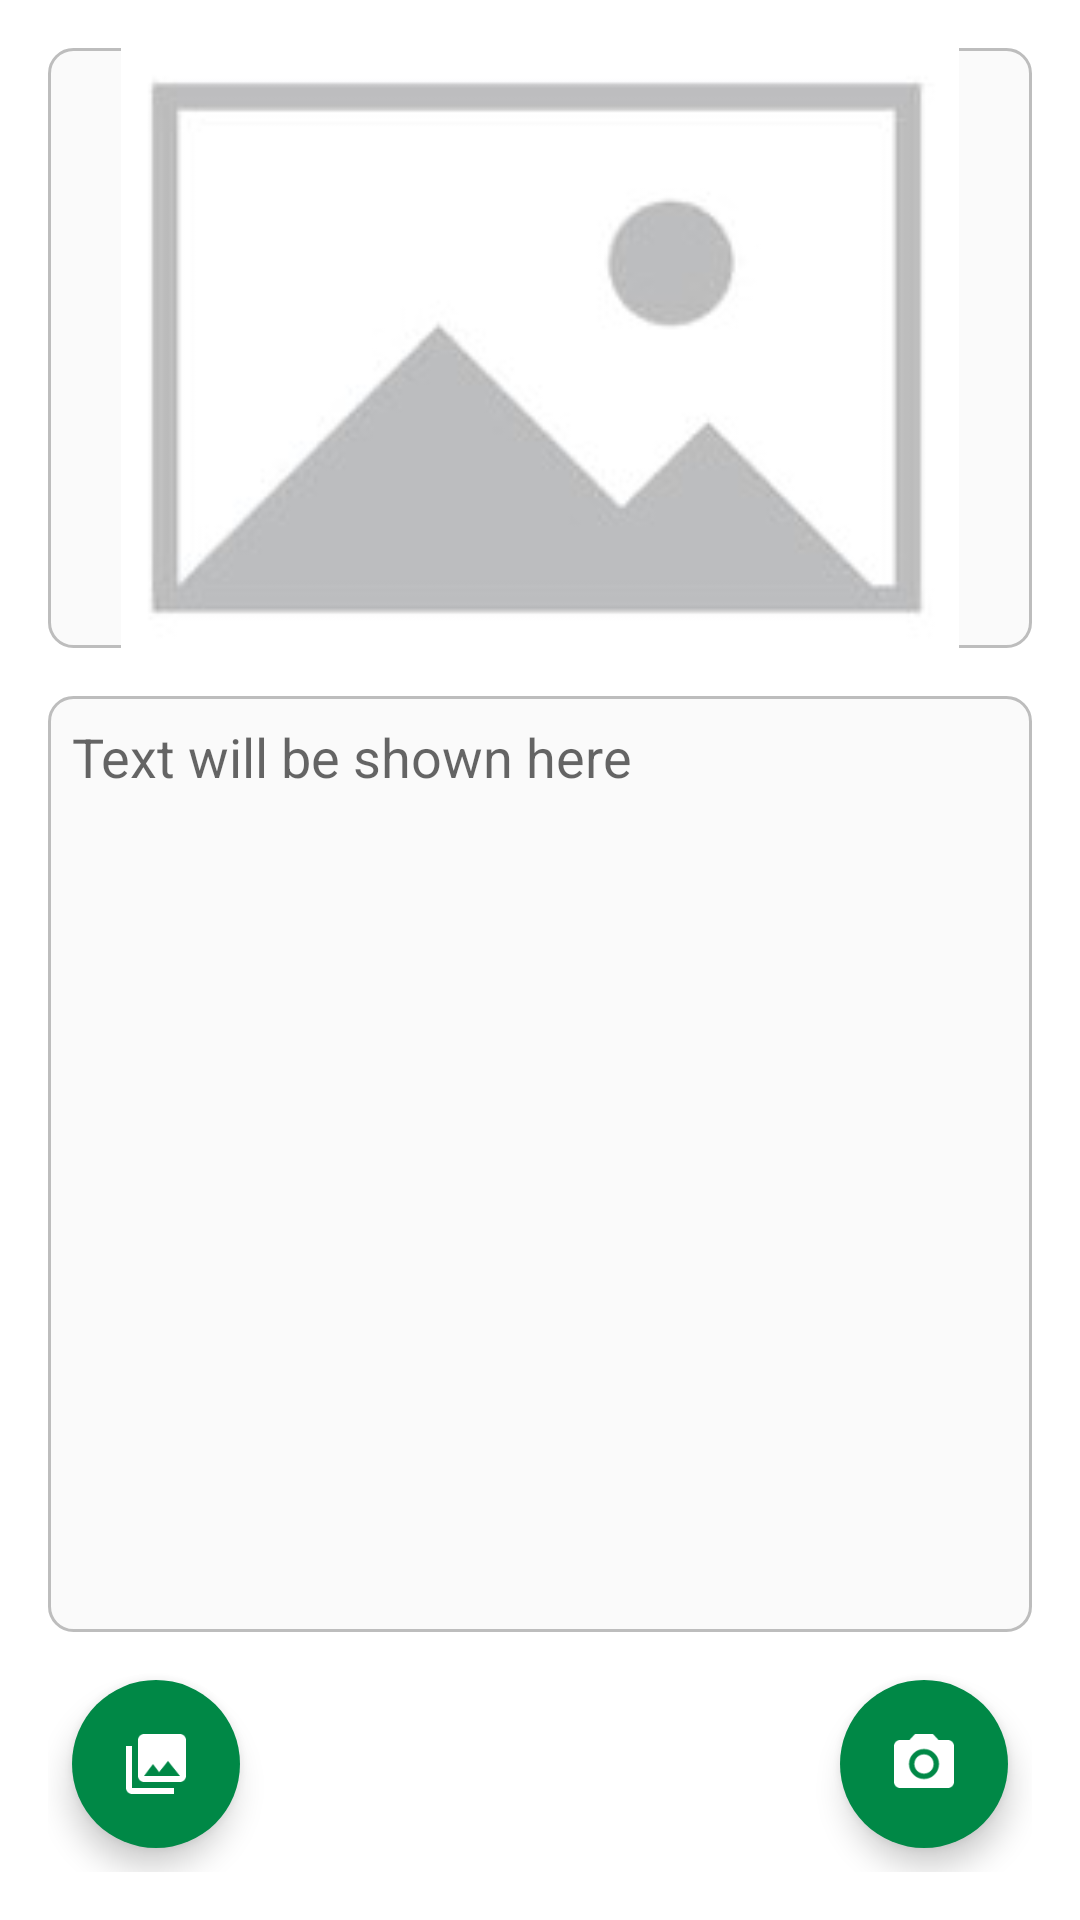

Named icons in this screenshot (1080 x 1920) and their bounding boxes, (x1, y1, x2, y2):
camera: (840, 1680, 1008, 1848)
gallery: (72, 1680, 240, 1848)
